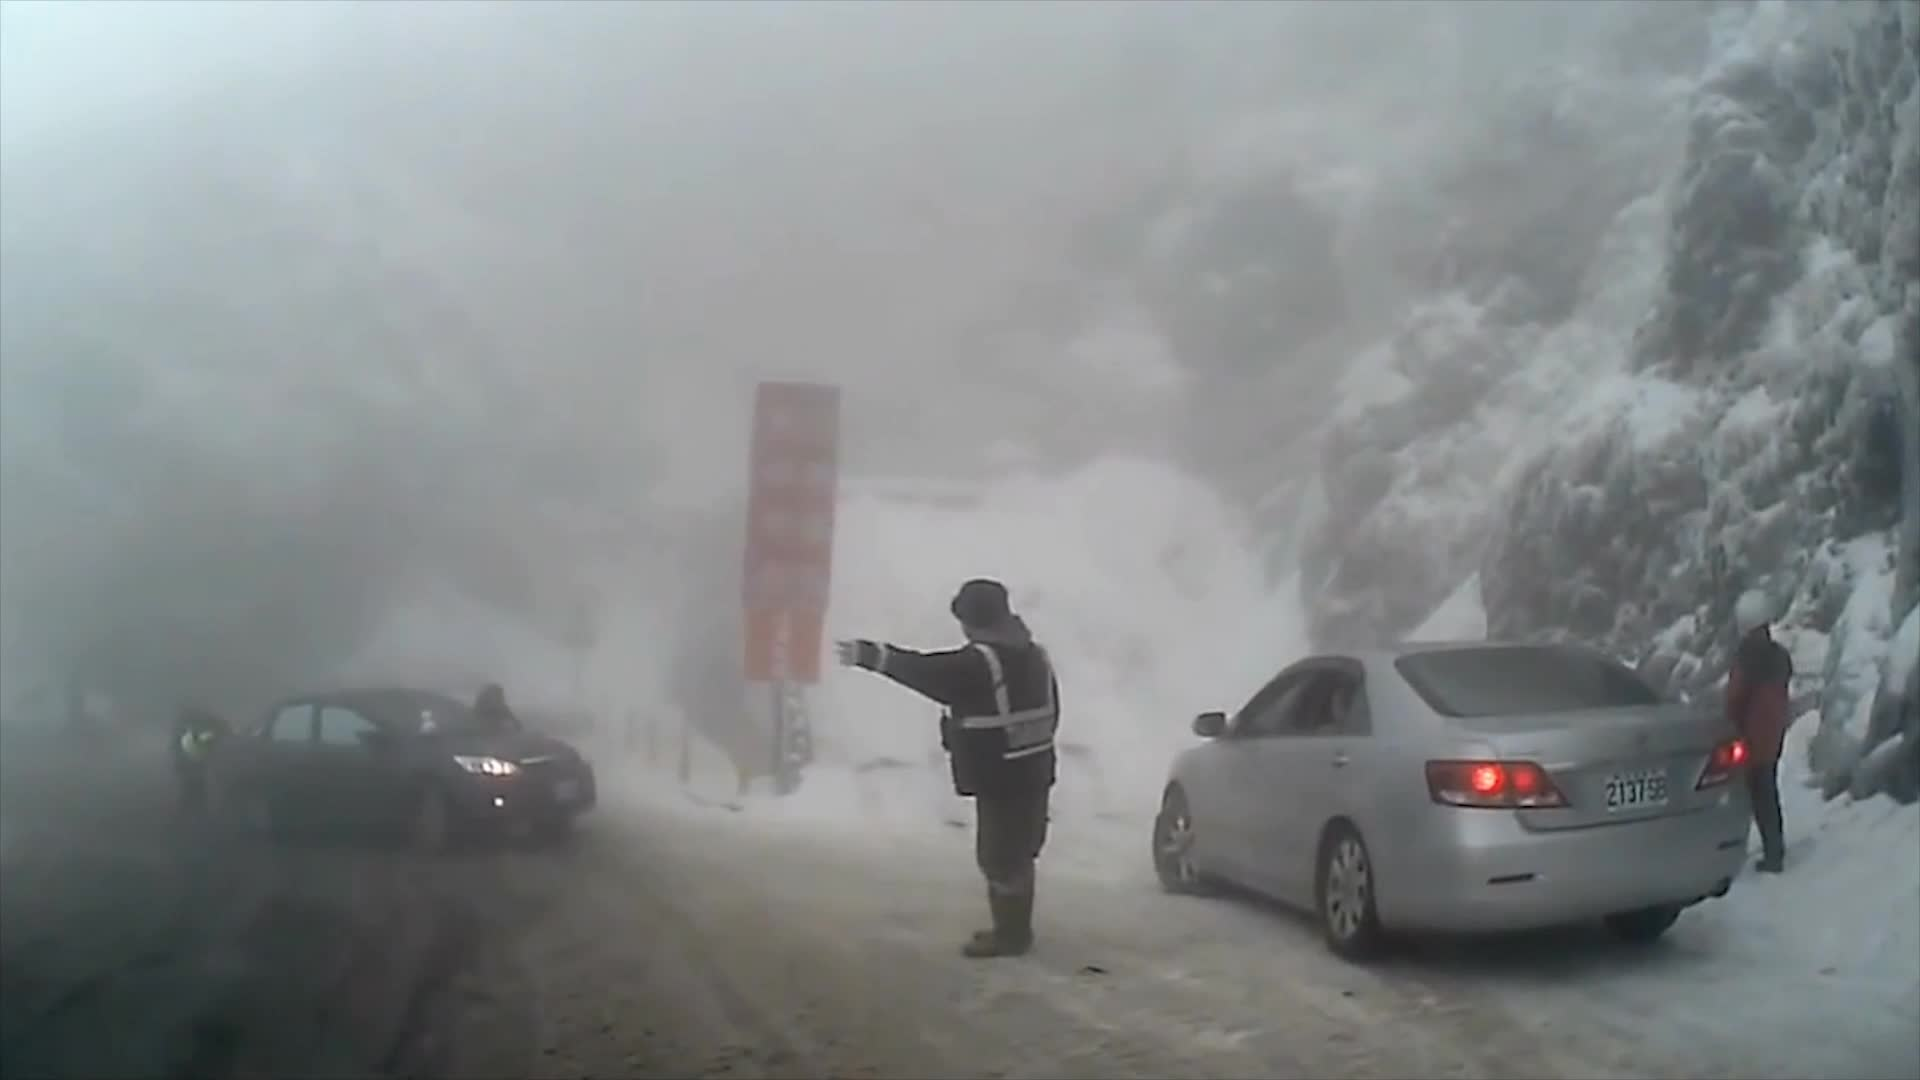pedestrian: (832, 577, 1053, 967), (1709, 595, 1798, 875), (172, 716, 232, 827)
vehicle: (1148, 639, 1750, 964), (215, 687, 596, 859)
